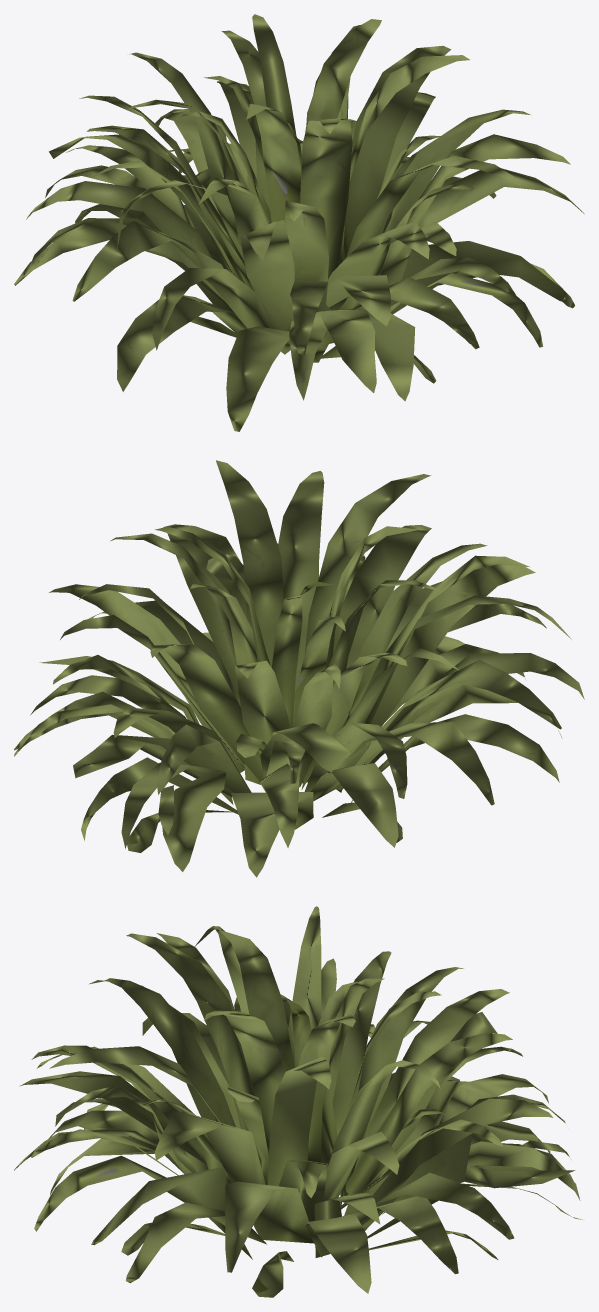
3 views of the same model, one above another, from view 1: azimuth 30°, elevation 25°; view 2: azimuth 150°, elevation 25°; view 3: azimuth 270°, elevation 25° (orthographic). The views are drawn at different scales.
Parts seen in each view (by area): view 1: tripo_node_4316c941-23f2-4953-8f7e-049ea33e0246; view 2: tripo_node_4316c941-23f2-4953-8f7e-049ea33e0246; view 3: tripo_node_4316c941-23f2-4953-8f7e-049ea33e0246.
Part boxes in pixels (x1,y1,x2,y2): tripo_node_4316c941-23f2-4953-8f7e-049ea33e0246: (14,14,584,431); tripo_node_4316c941-23f2-4953-8f7e-049ea33e0246: (14,460,584,877); tripo_node_4316c941-23f2-4953-8f7e-049ea33e0246: (14,906,582,1297).
Size of the model in its own units: 0.9941 by 0.5566 by 0.998.
1 material, 1 textured.
